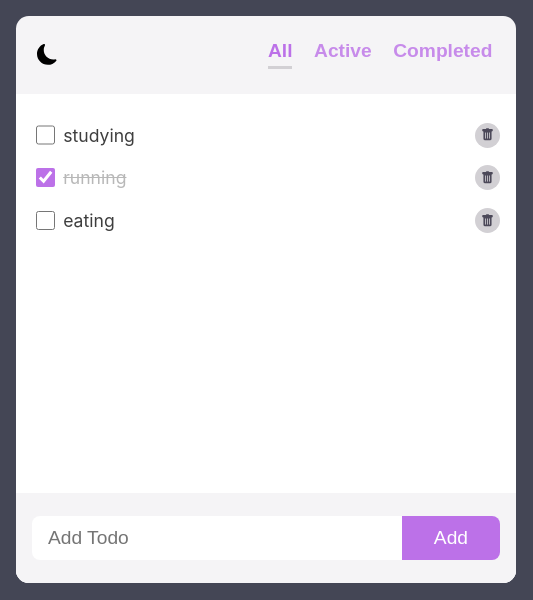
Test: App › Component › deletes a todo
Click the button titled "delete" in the row of "studying" at (488, 135), box [475,122,500,148]
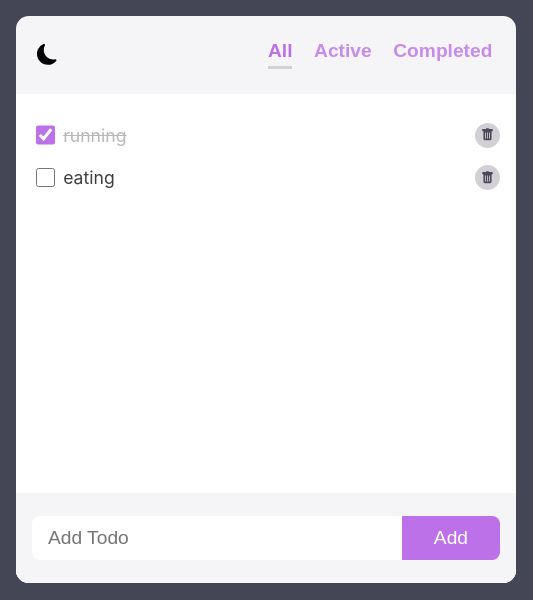
Expected: the label with test id "todo-text" no longer shows "studying"
